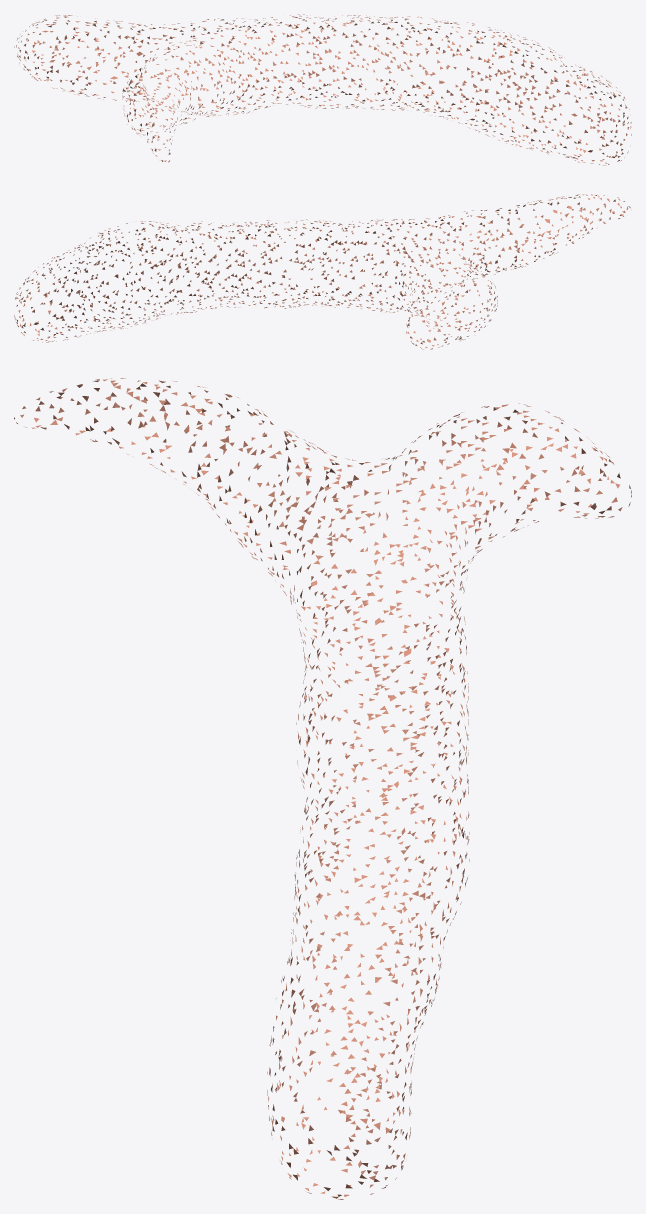
The model's file is morph_003.glb.
The picture shows the model from 3 angles, top to bottom: view 1: azimuth 30°, elevation 25°; view 2: azimuth 150°, elevation 25°; view 3: azimuth 270°, elevation 25°; orthographic projection. The views are drawn at different scales.
Bounding box in the file's own units: 115 × 45.81 × 64.61.
